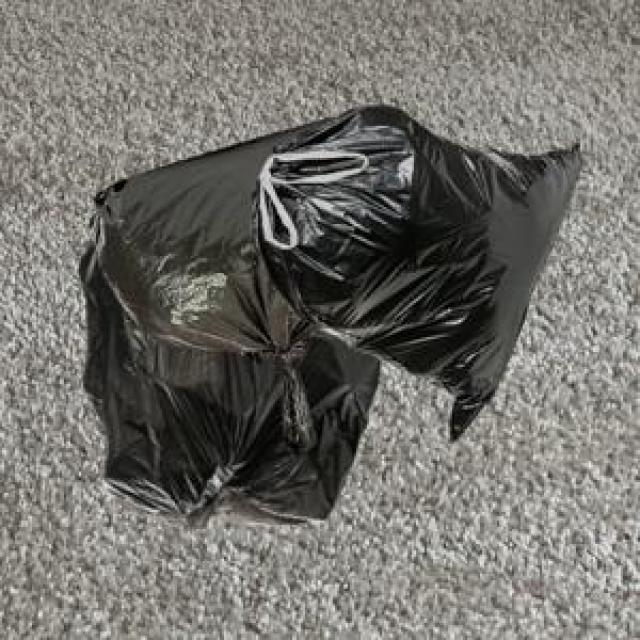waste: (80, 106, 578, 519)
